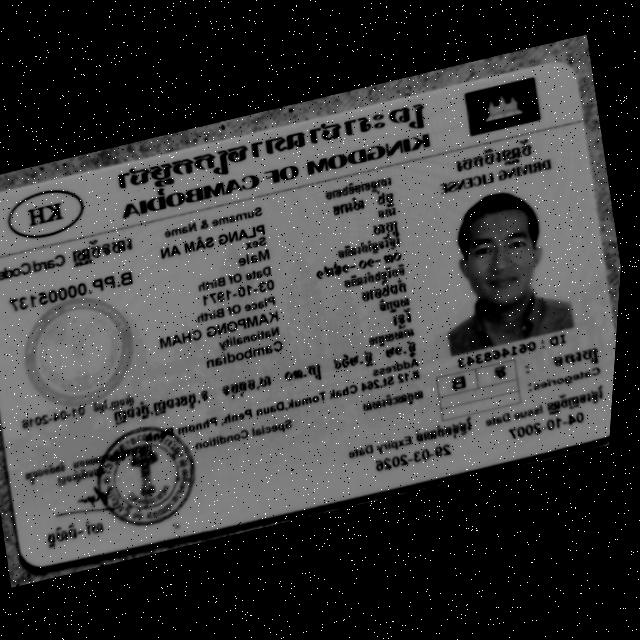card: (0, 63, 615, 567)
